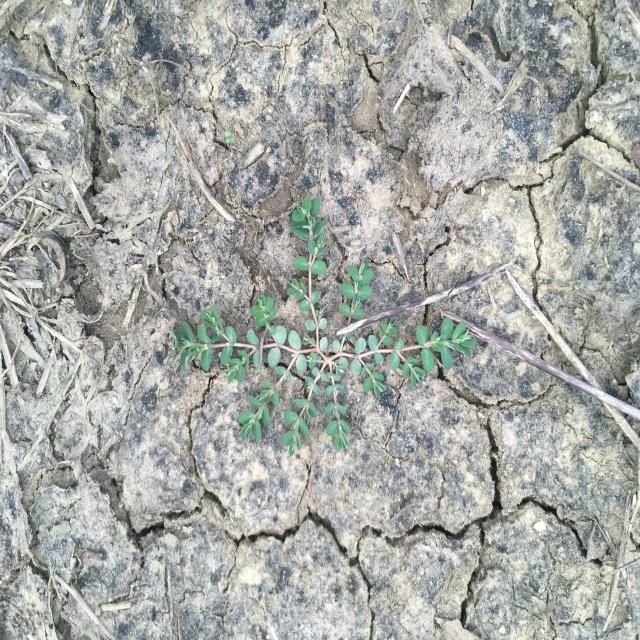SpottedSpurge: (170, 193, 478, 459)
